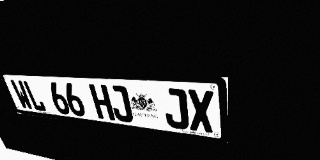6: (61, 82, 87, 117), (46, 82, 72, 115)
H: (88, 84, 115, 121)
J: (162, 88, 189, 130), (107, 85, 134, 123)
L: (22, 80, 47, 112)
W: (9, 80, 34, 110)
X: (187, 89, 214, 133)
